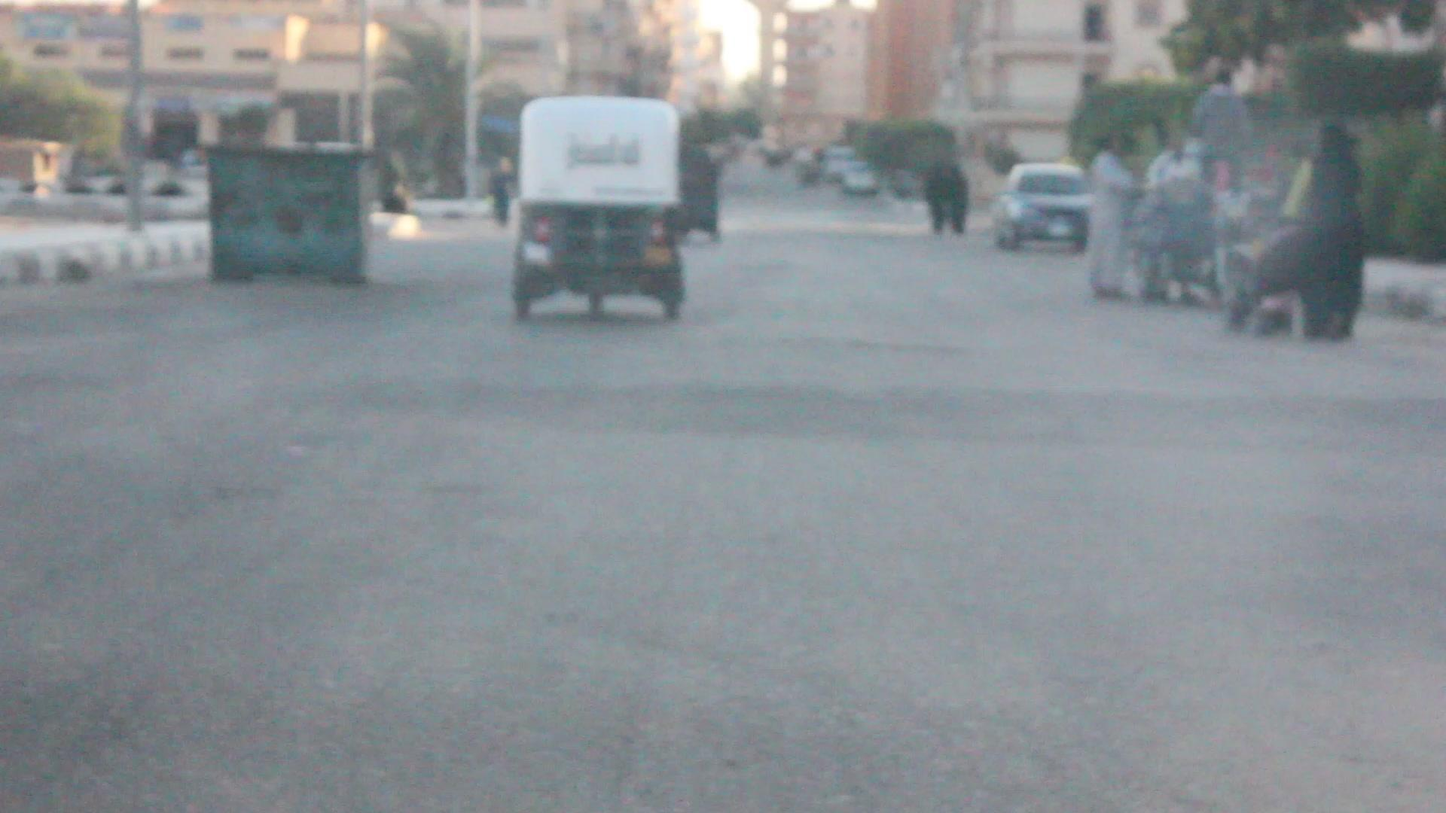Bump: (8, 355, 1445, 453)
